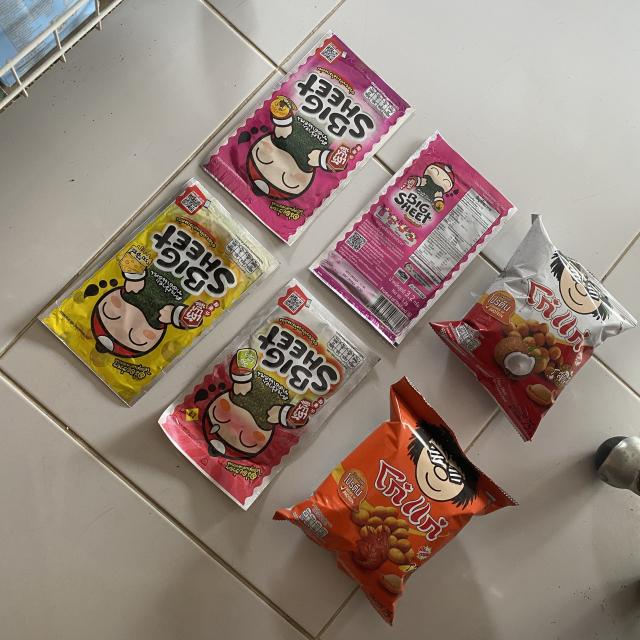plastik: (274, 378, 516, 625), (40, 179, 279, 405), (159, 279, 379, 510), (430, 215, 636, 441), (202, 31, 414, 245), (310, 131, 516, 346)
